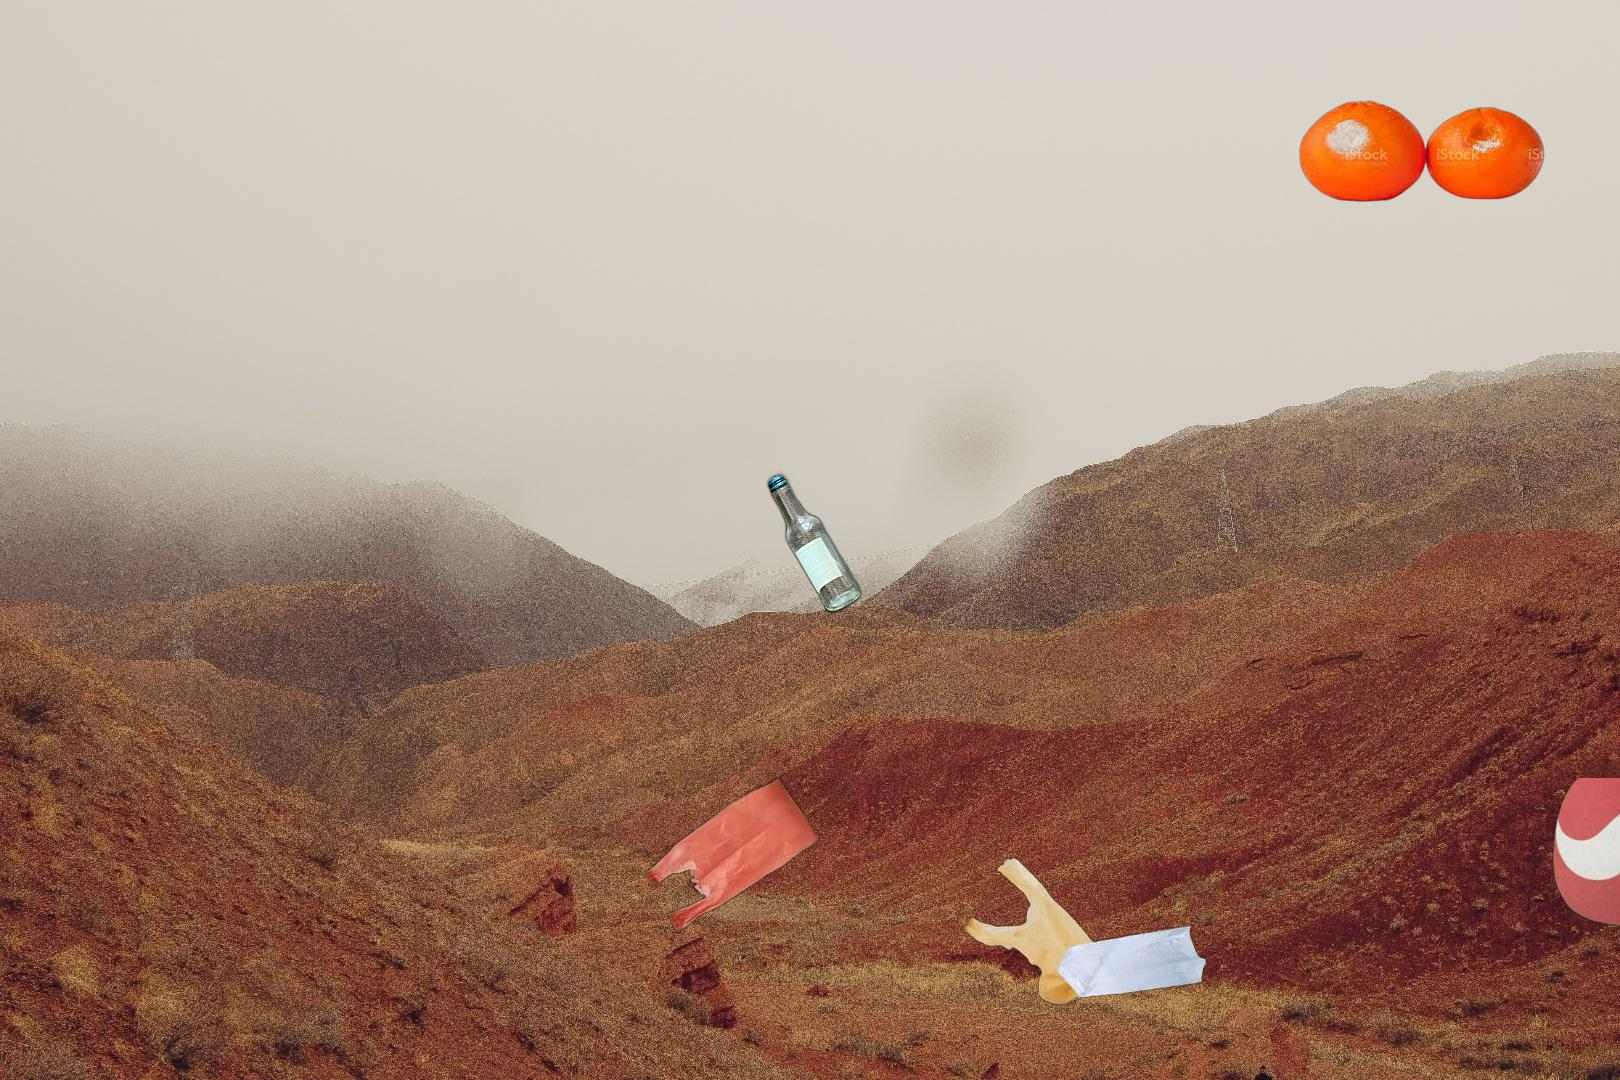biological: (1298, 98, 1545, 202)
glass: (764, 468, 865, 630)
paper: (1516, 777, 1620, 1020)
plastic-bag: (641, 765, 927, 1066), (961, 855, 1210, 1006)
